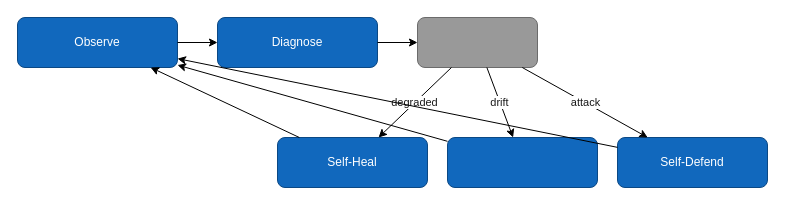
Some shapes in this 785 by 205 pixel diagram are drawn without their labels. Each missing label, with the box of its shape:
Class?: (416, 16, 538, 68)
Self-Learn: (446, 136, 598, 188)
